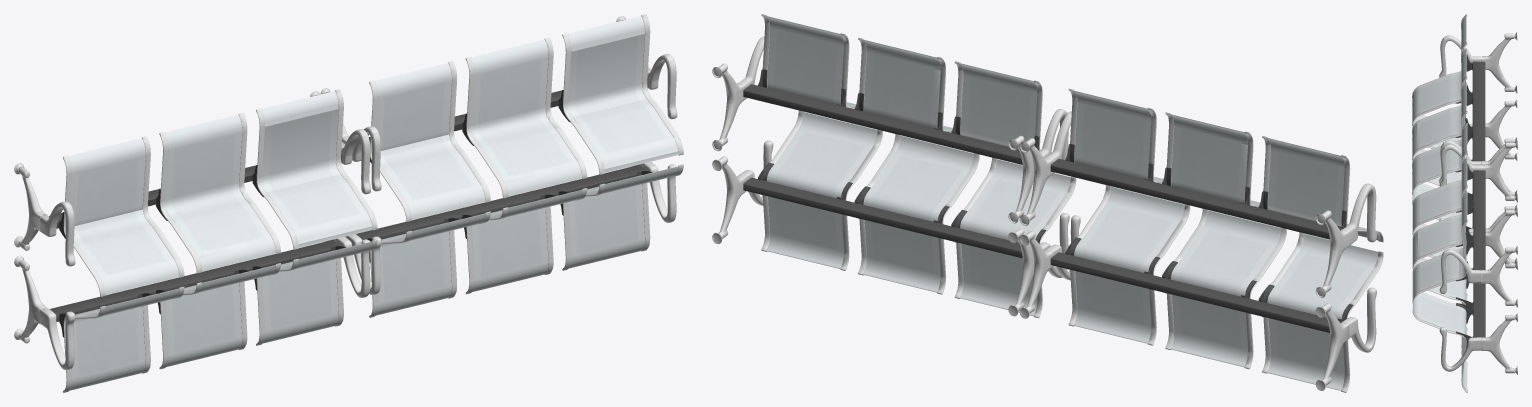
File: Ghế phòng chờ 4 ghế.glb
3 views of the same model, side by side, from view 1: azimuth 30°, elevation 25°; view 2: azimuth 150°, elevation 25°; view 3: azimuth 270°, elevation 25° (orthographic). The views are drawn at different scales.
Visible parts, largest first — view 1: Waiting Bench (3 Seats)_Waiting Bench_0.004, Waiting Bench (3 Seats)_Waiting Bench_0.003, Waiting Bench (3 Seats)_Waiting Bench_0.002, Waiting Bench (3 Seats)_Waiting Bench_0.001; view 2: Waiting Bench (3 Seats)_Waiting Bench_0.002, Waiting Bench (3 Seats)_Waiting Bench_0.001, Waiting Bench (3 Seats)_Waiting Bench_0.004, Waiting Bench (3 Seats)_Waiting Bench_0.003; view 3: Waiting Bench (3 Seats)_Waiting Bench_0.003, Waiting Bench (3 Seats)_Waiting Bench_0.004, Waiting Bench (3 Seats)_Waiting Bench_0.001, Waiting Bench (3 Seats)_Waiting Bench_0.002.
Part boxes in pixels (box(x1,y1,x2,y2)): Waiting Bench (3 Seats)_Waiting Bench_0.004: box(14, 89, 377, 296); Waiting Bench (3 Seats)_Waiting Bench_0.003: box(320, 14, 683, 221); Waiting Bench (3 Seats)_Waiting Bench_0.002: box(14, 236, 377, 392); Waiting Bench (3 Seats)_Waiting Bench_0.001: box(345, 161, 683, 317); Waiting Bench (3 Seats)_Waiting Bench_0.002: box(1019, 185, 1383, 392); Waiting Bench (3 Seats)_Waiting Bench_0.001: box(712, 110, 1076, 318); Waiting Bench (3 Seats)_Waiting Bench_0.004: box(1019, 88, 1383, 298); Waiting Bench (3 Seats)_Waiting Bench_0.003: box(712, 14, 1068, 223); Waiting Bench (3 Seats)_Waiting Bench_0.003: box(1412, 123, 1517, 307); Waiting Bench (3 Seats)_Waiting Bench_0.004: box(1412, 14, 1517, 196); Waiting Bench (3 Seats)_Waiting Bench_0.001: box(1412, 208, 1517, 392); Waiting Bench (3 Seats)_Waiting Bench_0.002: box(1412, 99, 1517, 263).
Size of the model in its own units: 4.63 by 1.71 by 0.9521.
1 material, 1 textured.
